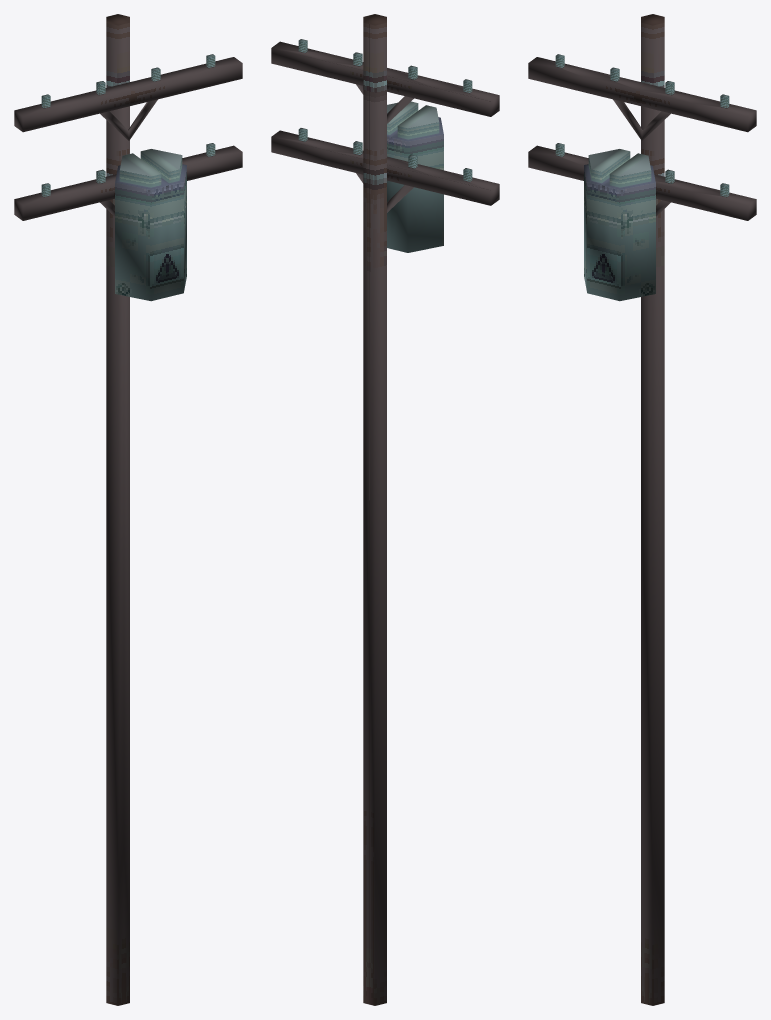
Rendered from powerline.glb.
3 views of the same model, side by side, from view 1: azimuth 30°, elevation 25°; view 2: azimuth 150°, elevation 25°; view 3: azimuth 330°, elevation 25° (orthographic).
Visible parts, largest first — view 1: powerline; view 2: powerline; view 3: powerline.
Boxes of the visible parts, x1,y1,x2,y2 form: powerline: (14,14,242,1005); powerline: (271,14,499,1005); powerline: (528,14,756,1005).
Bounding box in the file's own units: 0.9419 × 4.02 × 0.4104.
Materials: 1 (1 with a texture image).
